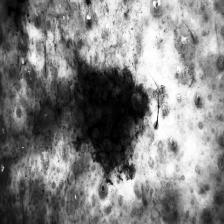Benign Marking or Mole: (62, 55, 162, 181)
